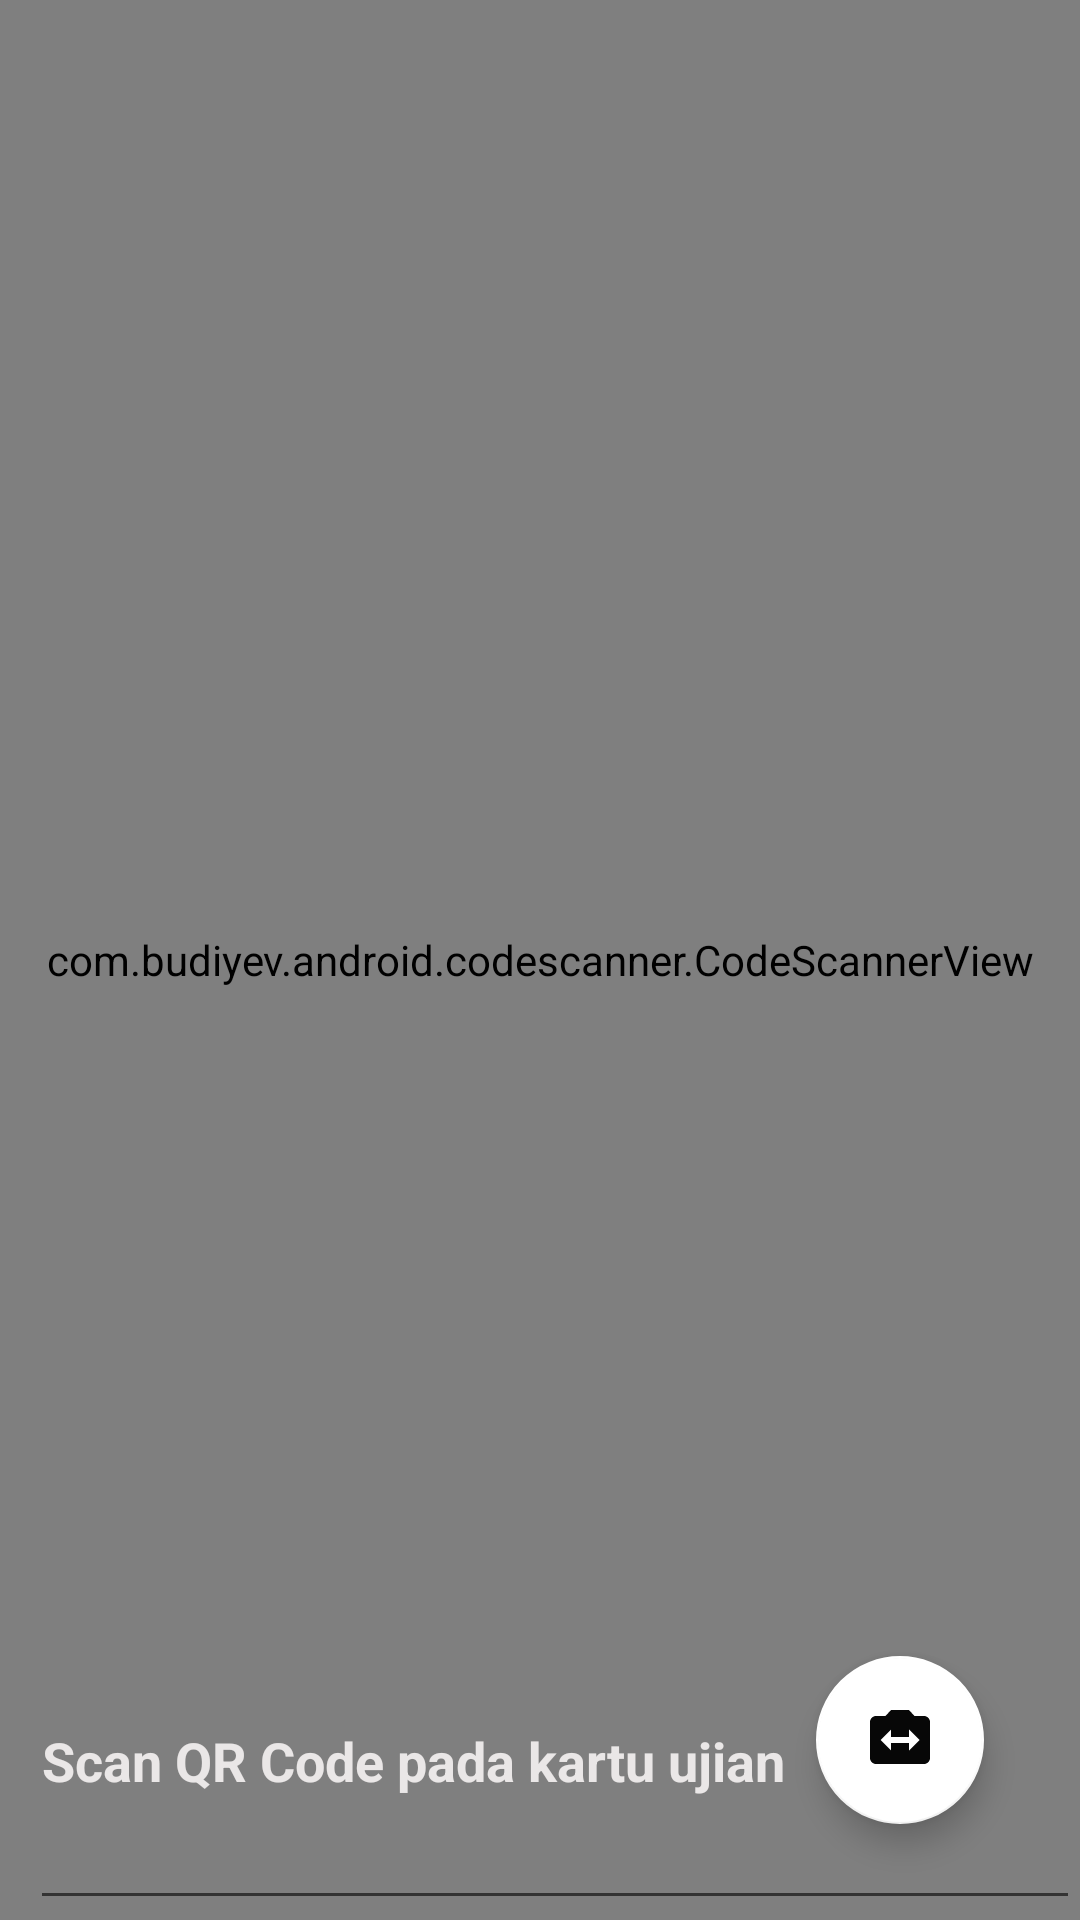

Screen size 1080w x 1920h. Icon name, then its box in pixels as bbox(x1, y1, x2, y2):
switch camera: bbox(816, 1656, 984, 1824)
